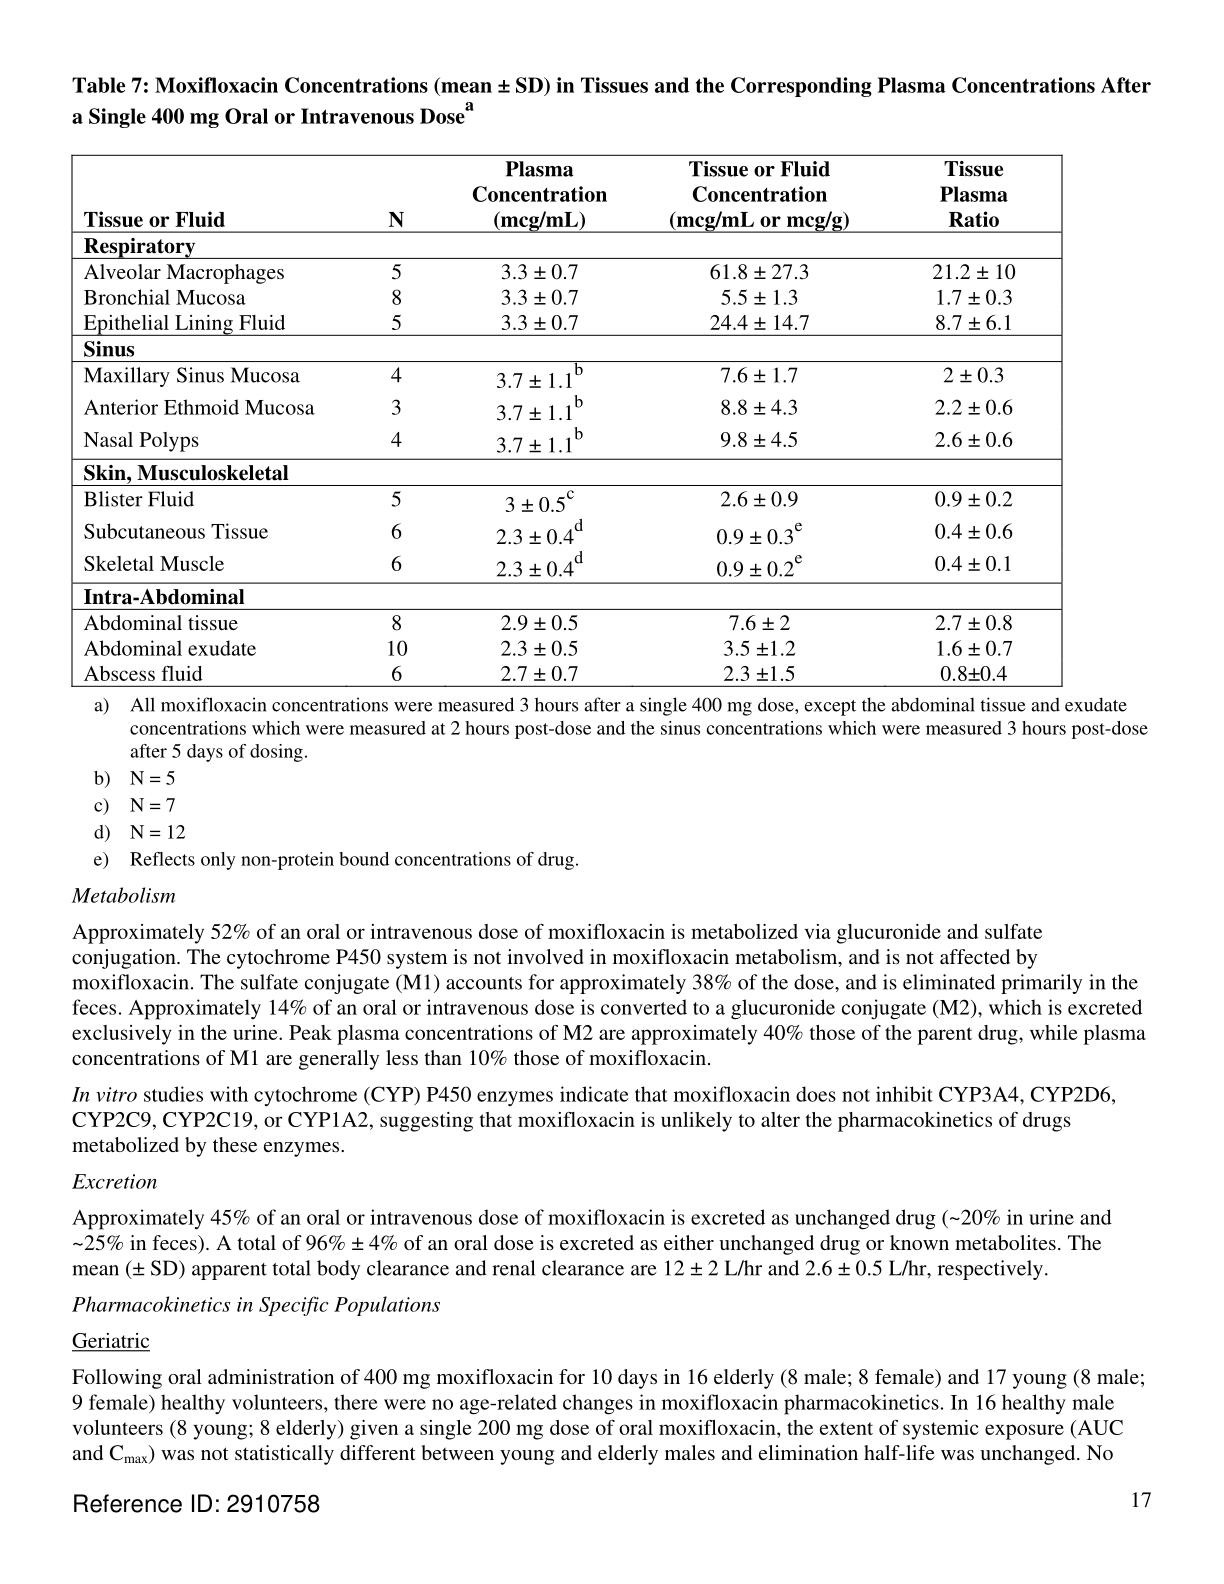partial_lined: (69, 154, 1065, 689)
